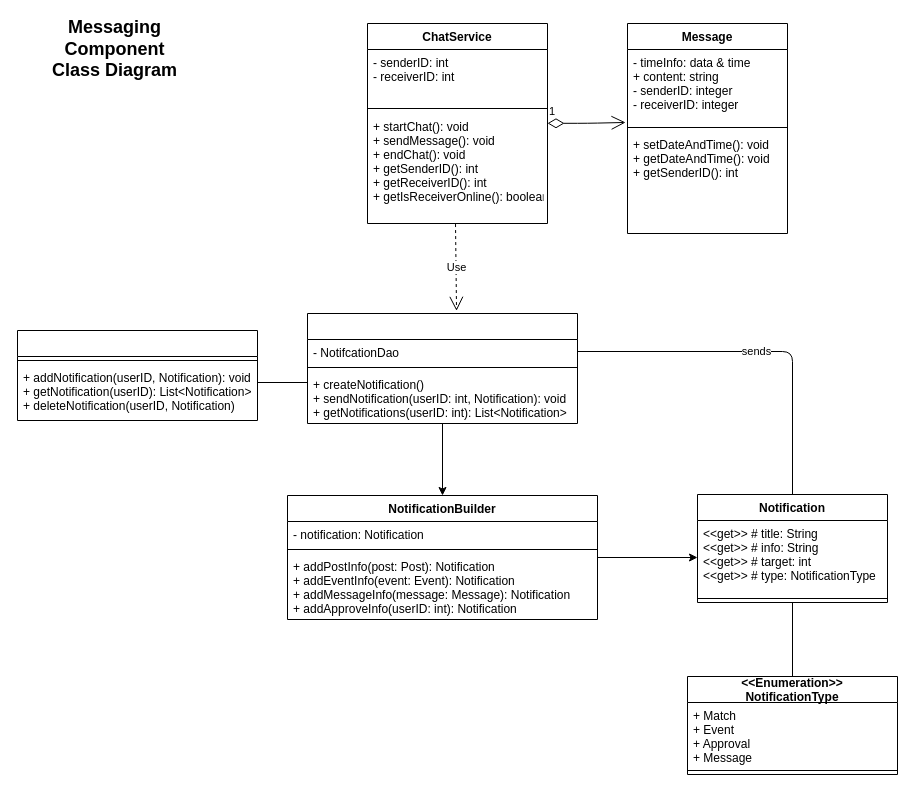
Some shapes in this 915 by 792 pixel diagram are drawn without their labels. Here are the shapes that lost their labels. From the top down, the box of each, then its label:
(16, 330, 258, 420): NotificationDao
(306, 312, 578, 424): NotificationService
